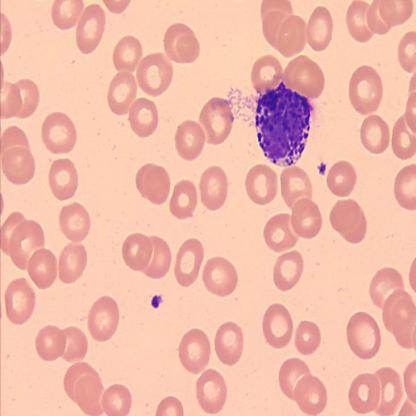Basophil: (253, 78, 315, 170)
